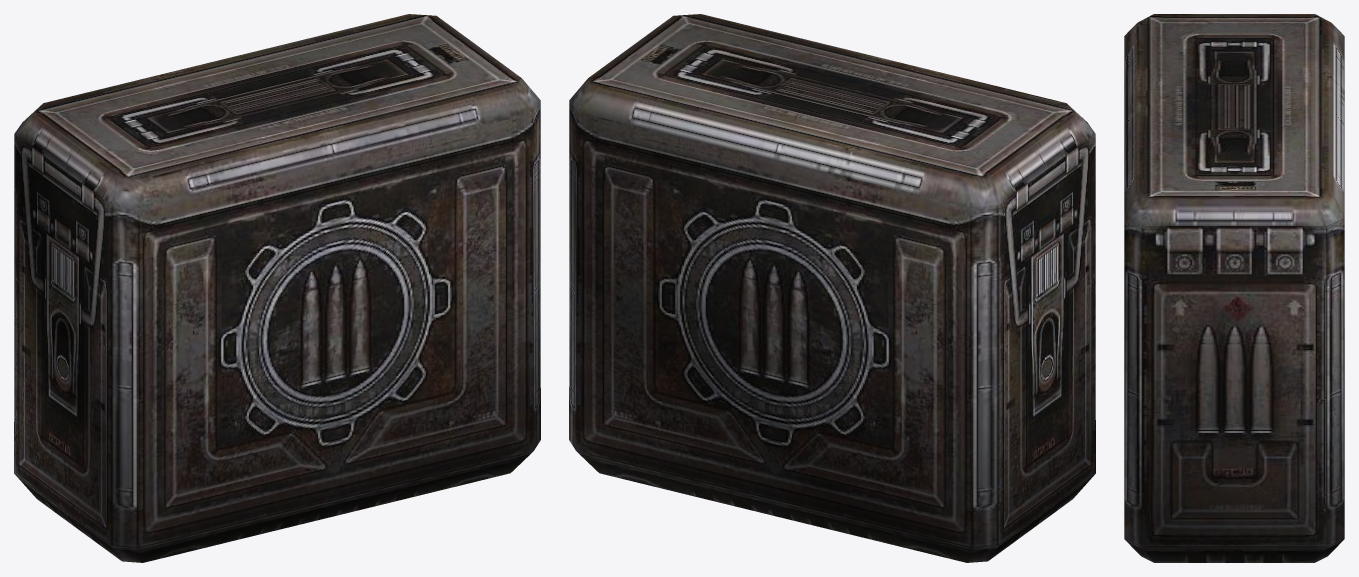
The model's file is Ammopickup_Case.fbx.
3 views of the same model, side by side, from view 1: azimuth 30°, elevation 25°; view 2: azimuth 150°, elevation 25°; view 3: azimuth 270°, elevation 25° (orthographic). The views are drawn at different scales.
Parts seen in each view (by area): view 1: Ammopickup_Case; view 2: Ammopickup_Case; view 3: Ammopickup_Case.
Boxes of the visible parts, <box> form: Ammopickup_Case: <box>14,14,540,562</box>; Ammopickup_Case: <box>569,14,1095,562</box>; Ammopickup_Case: <box>1124,14,1344,562</box>.
Bounding box in the file's own units: 121 × 104 × 56.77.
